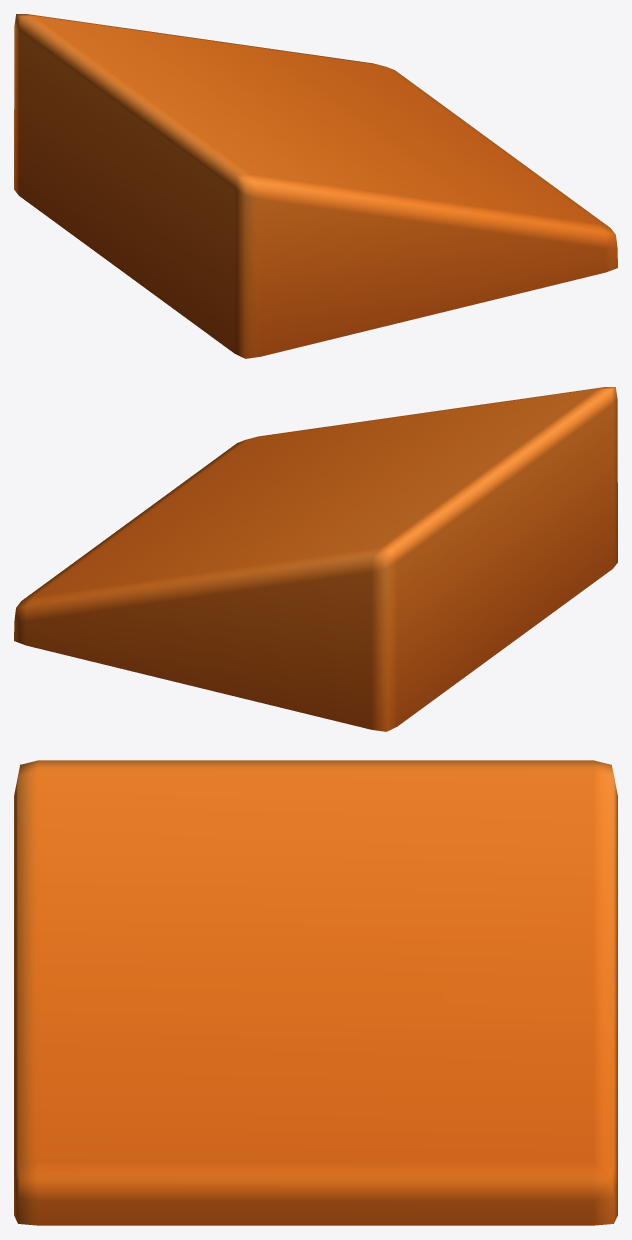
File: Ramp.fbx
3 renders of one model, top to bottom at view 1: azimuth 30°, elevation 25°; view 2: azimuth 150°, elevation 25°; view 3: azimuth 270°, elevation 25°, orthographic. The views are drawn at different scales.
Parts seen in each view (by area): view 1: Plane.003; view 2: Plane.003; view 3: Plane.003.
Part boxes in pixels (x1,y1,x2,y2): Plane.003: [14, 14, 617, 358]; Plane.003: [14, 387, 617, 731]; Plane.003: [14, 760, 617, 1225].
Size of the model in its own units: 213 by 96.19 by 230.
